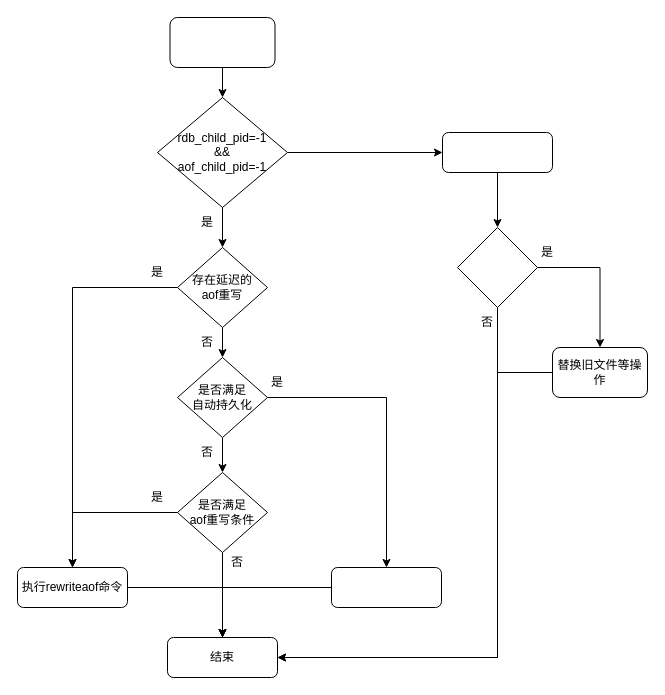
Some shapes in this 665 by 695 pixel diagram are drawn without their labels. Each missing label, with the box of its shape:
serverCron函数: (169, 16, 275, 68)
子进程 返回信号: (456, 226, 538, 308)
执行bgsave命令: (330, 566, 442, 608)
等待一会: (442, 132, 552, 172)
